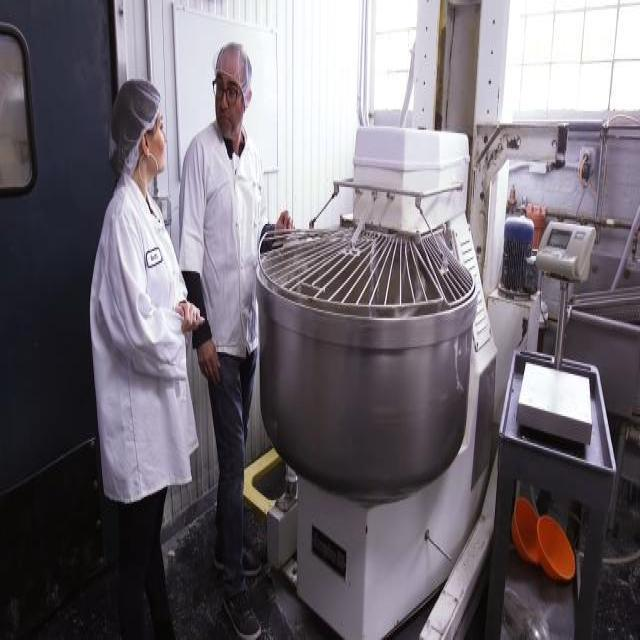bare_hand: (260, 200, 315, 263), (189, 325, 233, 397), (175, 288, 208, 347)
